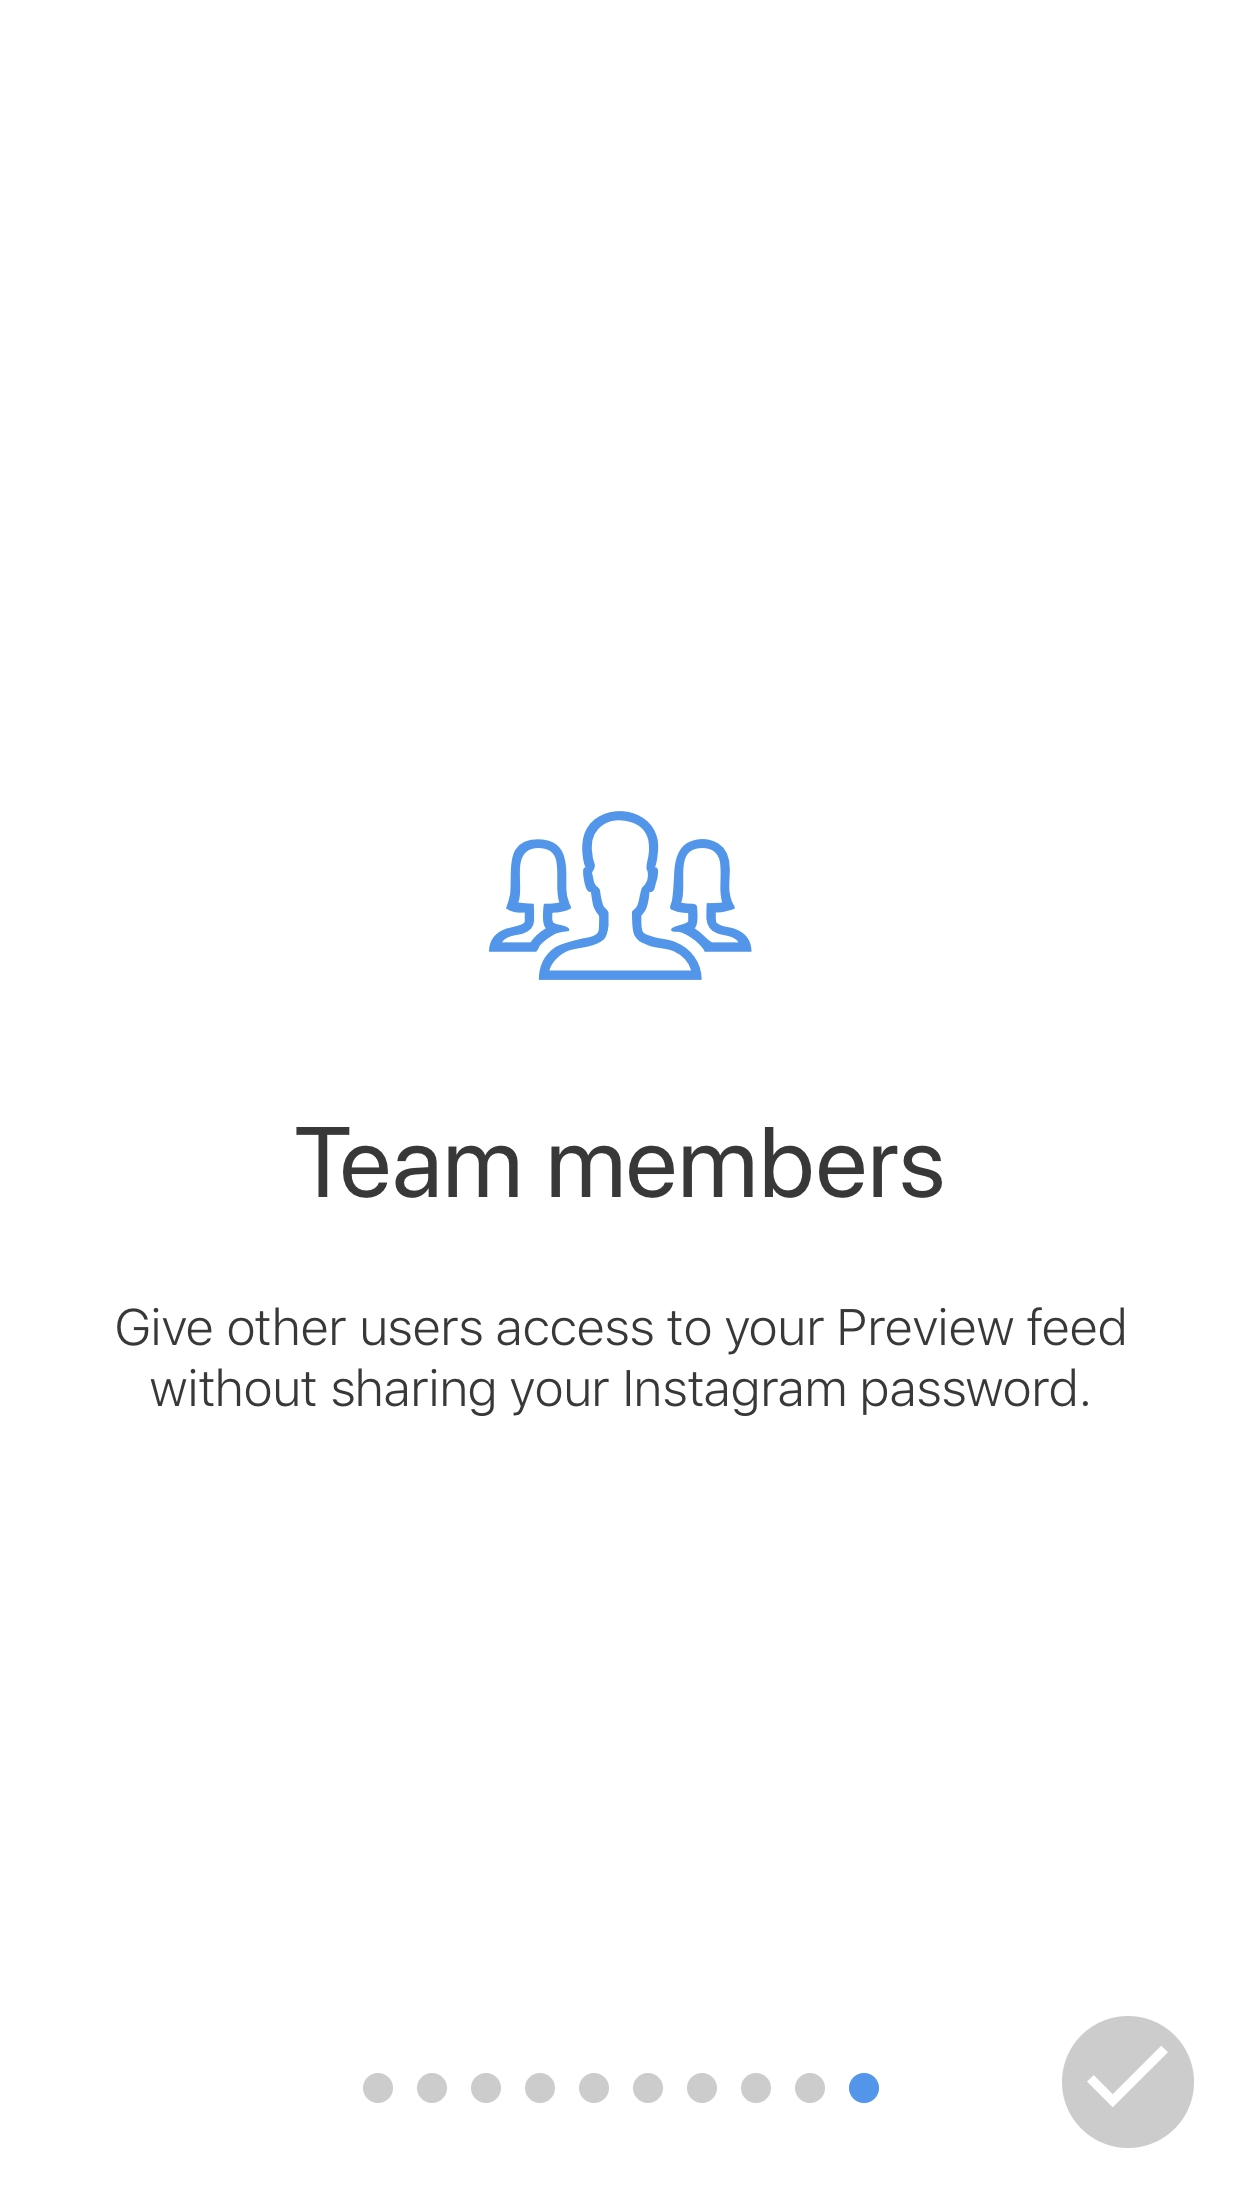Icon: (488, 811, 752, 980), (1062, 2015, 1193, 2147)
PageIndicator: (362, 2072, 880, 2103)
Text: (117, 1307, 1124, 1415), (296, 1127, 942, 1198)
